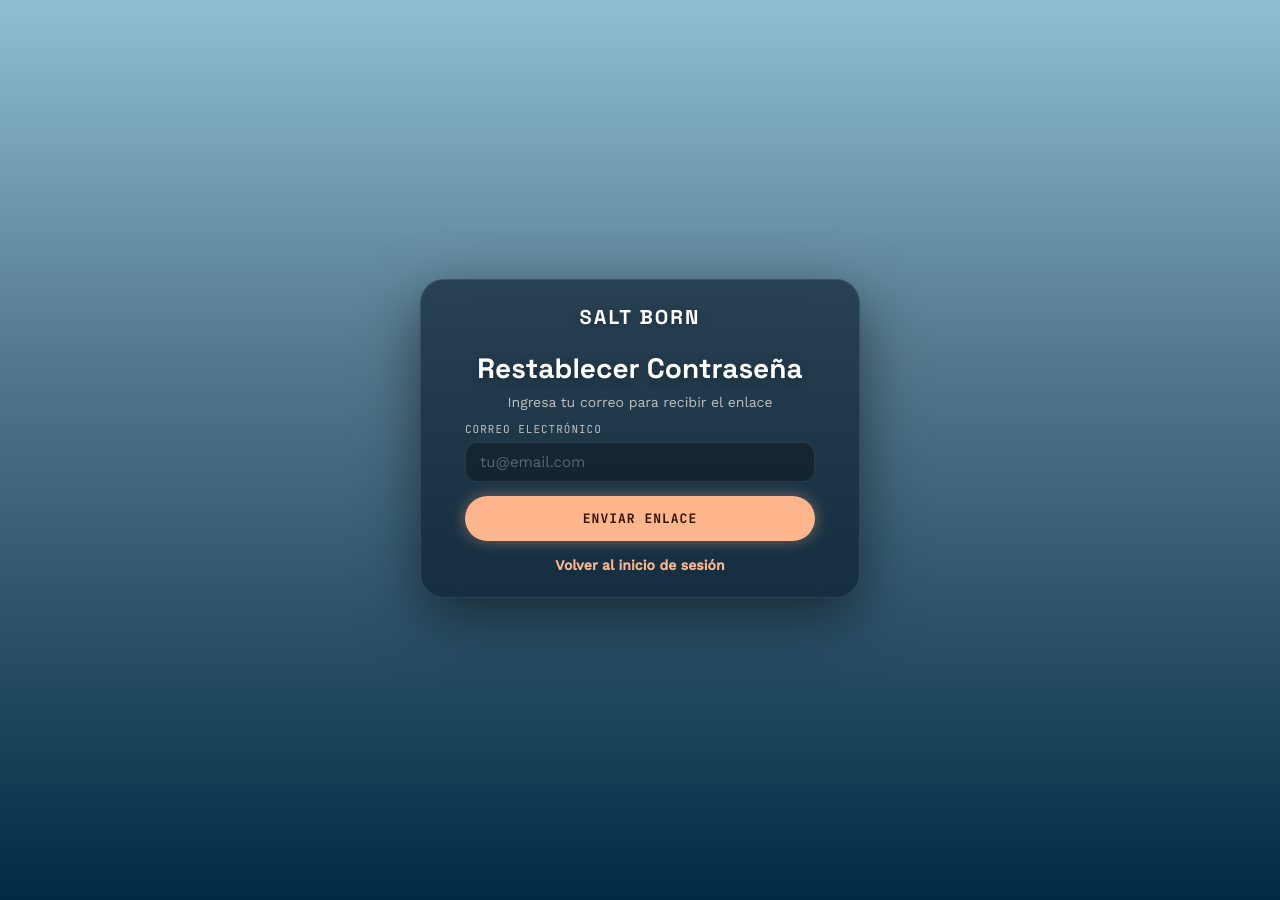
Scenario: ForgotPassword › paso 1: pedir el enlace por correo › quita < y >, pasa a minúsculas y envía el correo limpio
Type "<JUAN@Correo.COM>" into the field labelled "Correo Electrónico" at (640, 462), box [465,442,815,482]
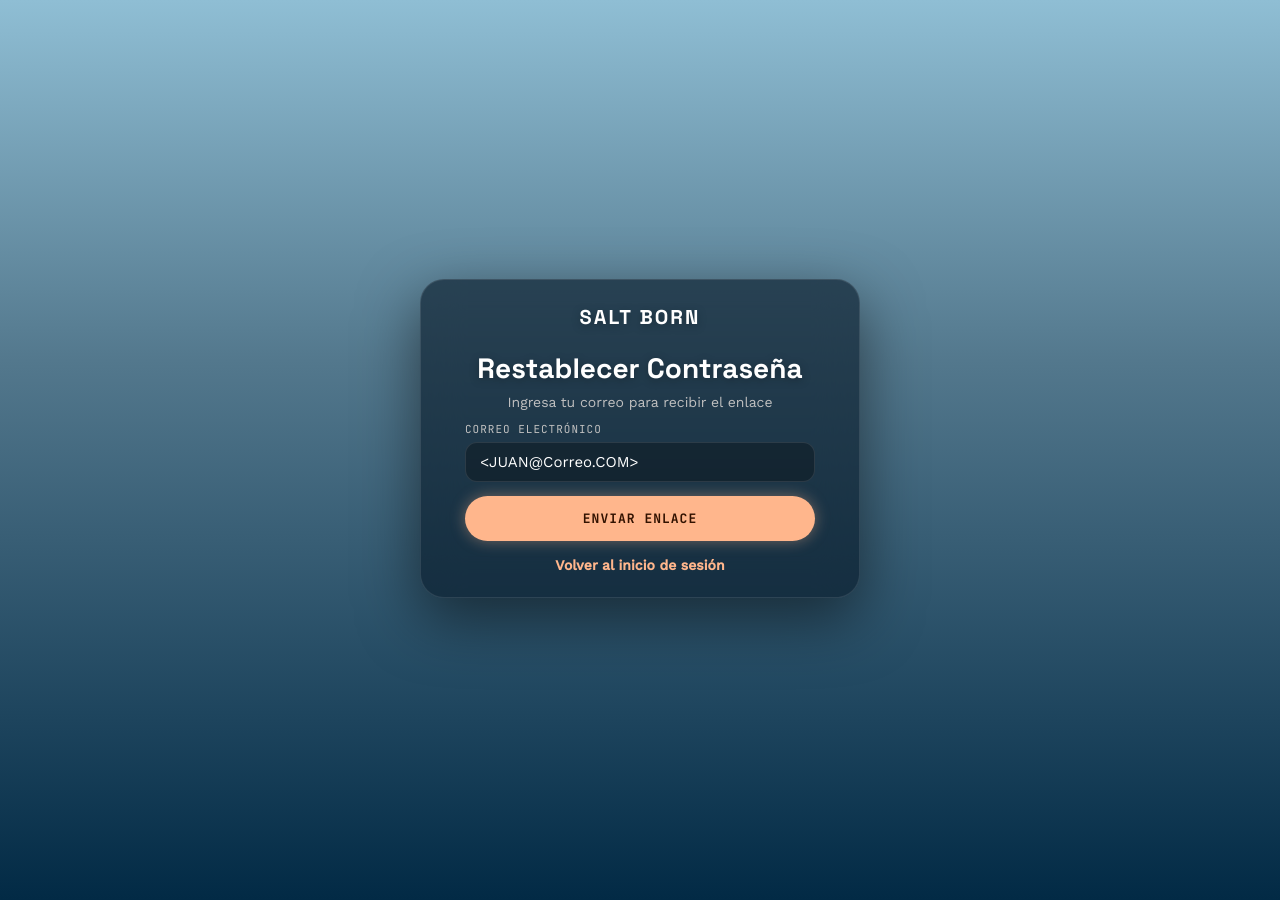
Click the button "Enviar Enlace" at (640, 518), box [465,496,815,540]
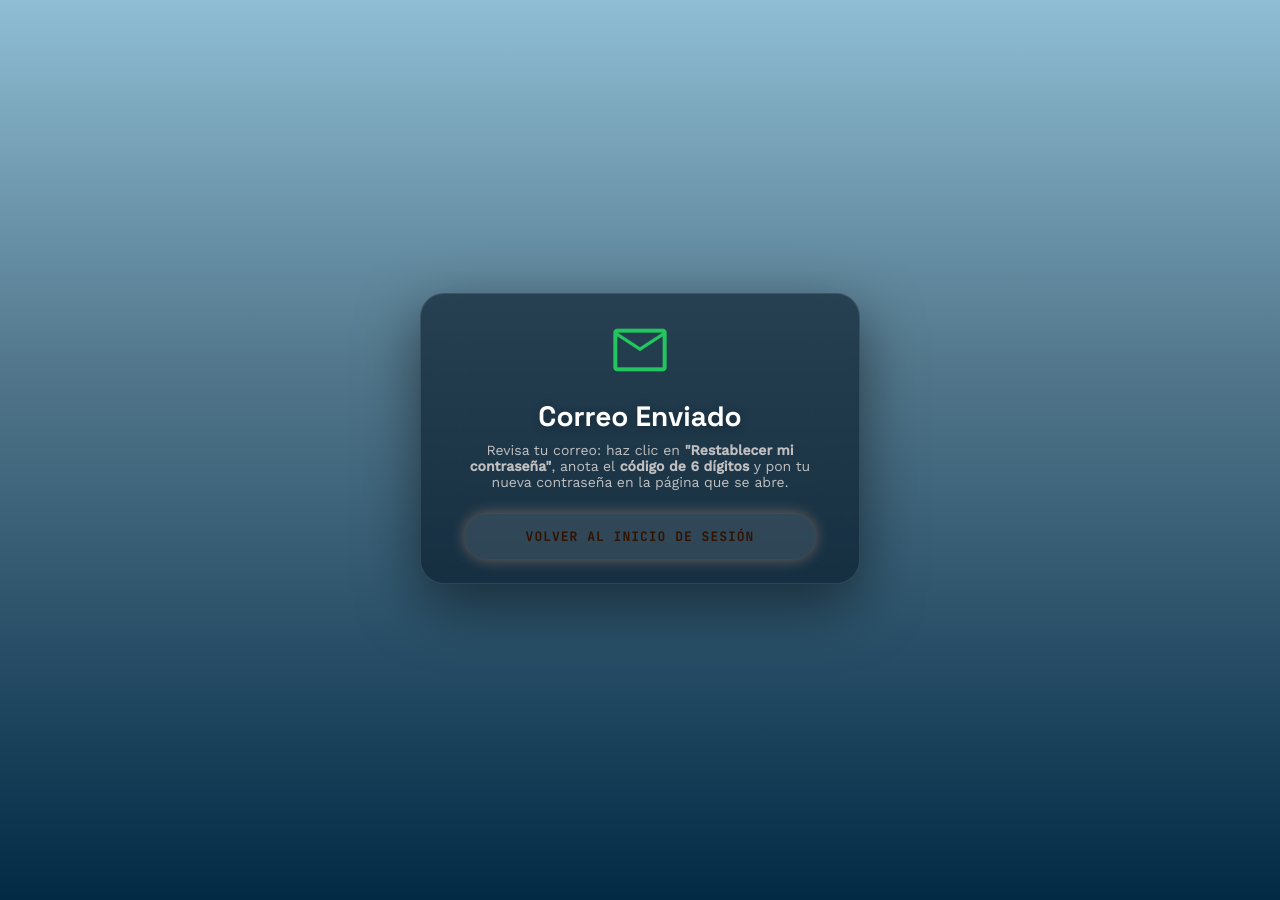
Result: the heading "Correo Enviado" is shown at [538,398,742,434]
